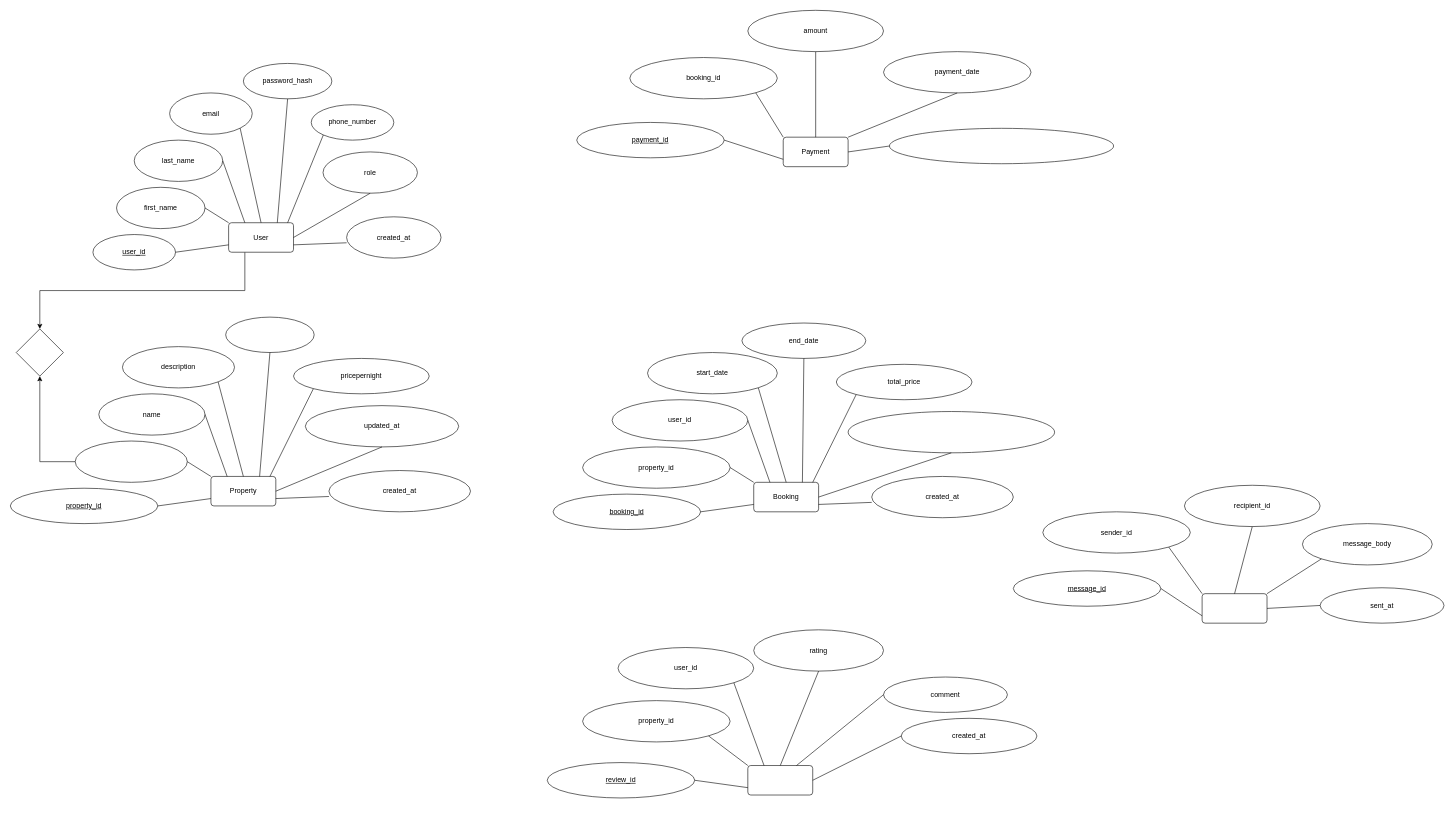
The diagram is 1454 pixels wide and 816 high, and some of its shapes have lost their labels. The shapes that lost their labels are listed below. From the top down, each one's centre as x and y in pixels, then its label:
At point (1001, 146): "payment_method".
At point (39, 352): "user hosts".
At point (269, 335): "location".
At point (951, 432): "status".
At point (131, 461): "host_id".
At point (1234, 608): "Message".
At point (780, 780): "Review".
